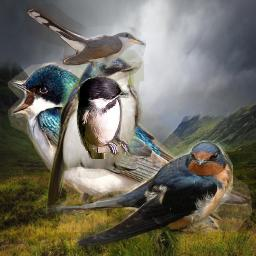Cuckoo: (26, 4, 146, 81)
Swallow: (8, 61, 252, 232), (43, 140, 233, 246), (46, 48, 144, 219), (75, 74, 132, 159)
